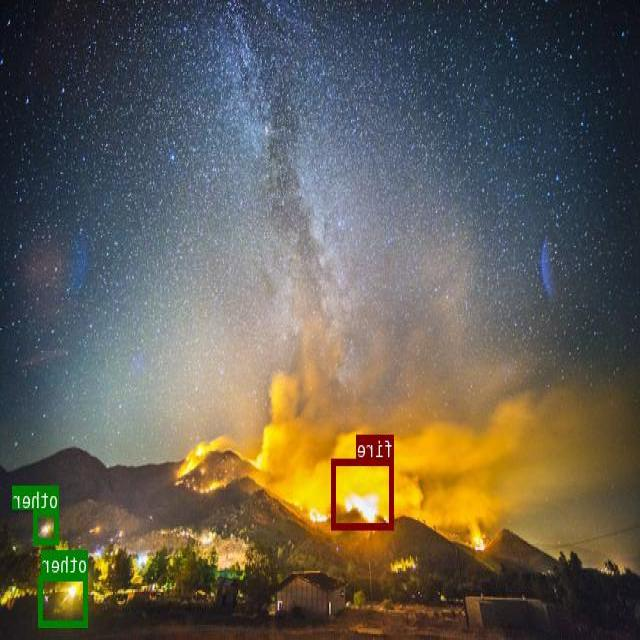fire: (333, 458, 394, 529)
other: (39, 573, 89, 625), (35, 509, 60, 544)
